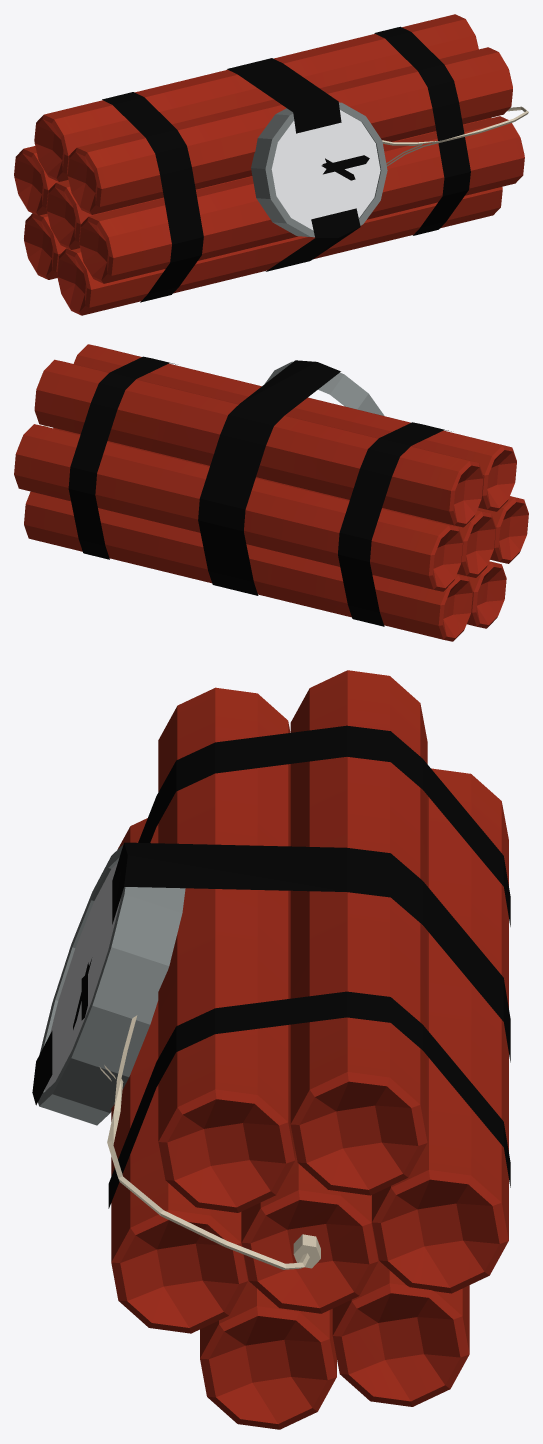
Rendered from bomb_lev2.glb.
3 views of the same model, one above another, from view 1: azimuth 30°, elevation 25°; view 2: azimuth 150°, elevation 25°; view 3: azimuth 270°, elevation 25° (orthographic). The views are drawn at different scales.
Parts seen in each view (by area): view 1: bomb_lev2; view 2: bomb_lev2; view 3: bomb_lev2.
Part boxes in pixels (x1=…): bomb_lev2: x1=14, y1=14, x2=528, y2=315; bomb_lev2: x1=14, y1=344, x2=528, y2=641; bomb_lev2: x1=32, y1=670, x2=510, y2=1429.
Bounding box in the file's own units: 4.48 × 1.82 × 2.1.
1 material, 1 textured.
